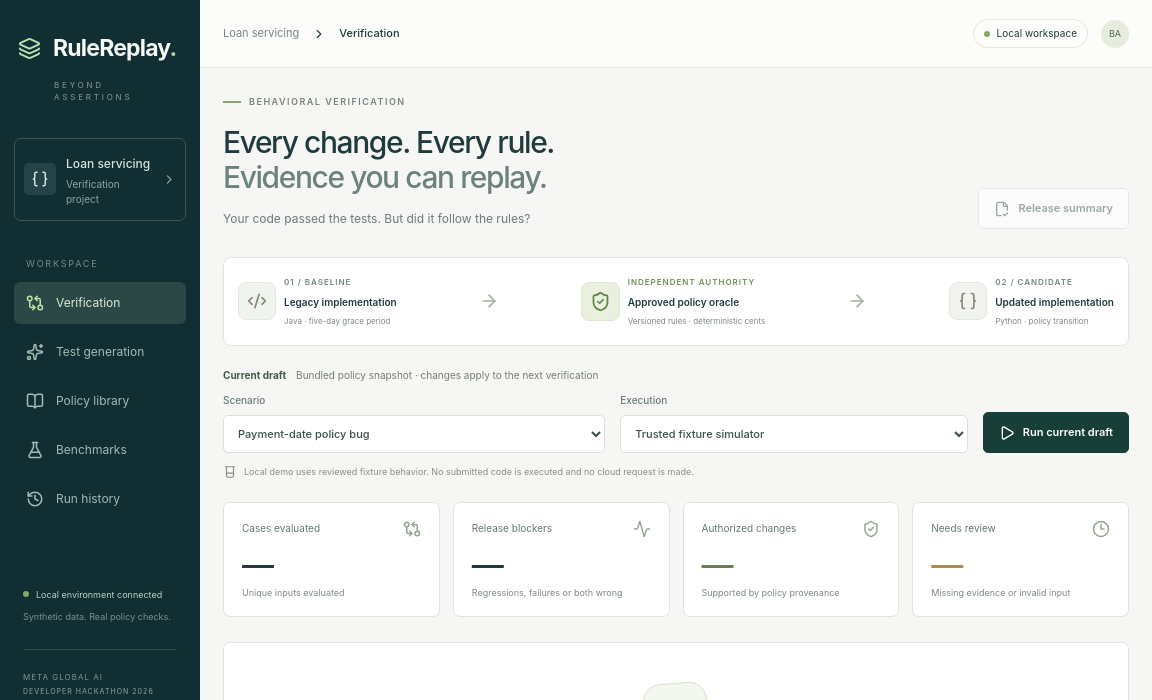
simulator execution cannot display a release PASS even with an inconsistent payload
Expected: the text "Local environment connected" is shown, [23,588,177,601]
Click the button "Run history".
click(100, 499)  # box [14,478,186,520]
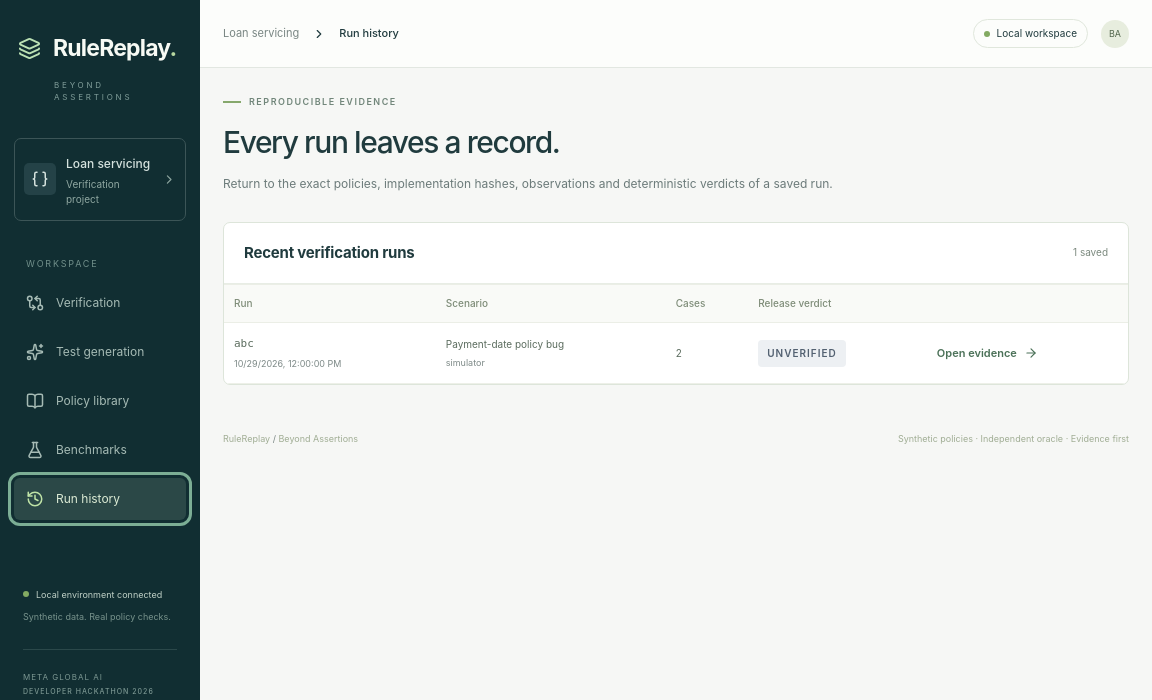
Result: the element named "Historical release verdict" reads "UNVERIFIED" at [767,347,837,359]
Click the button "Open evidence".
click(987, 353)  # box [937,345,1038,361]
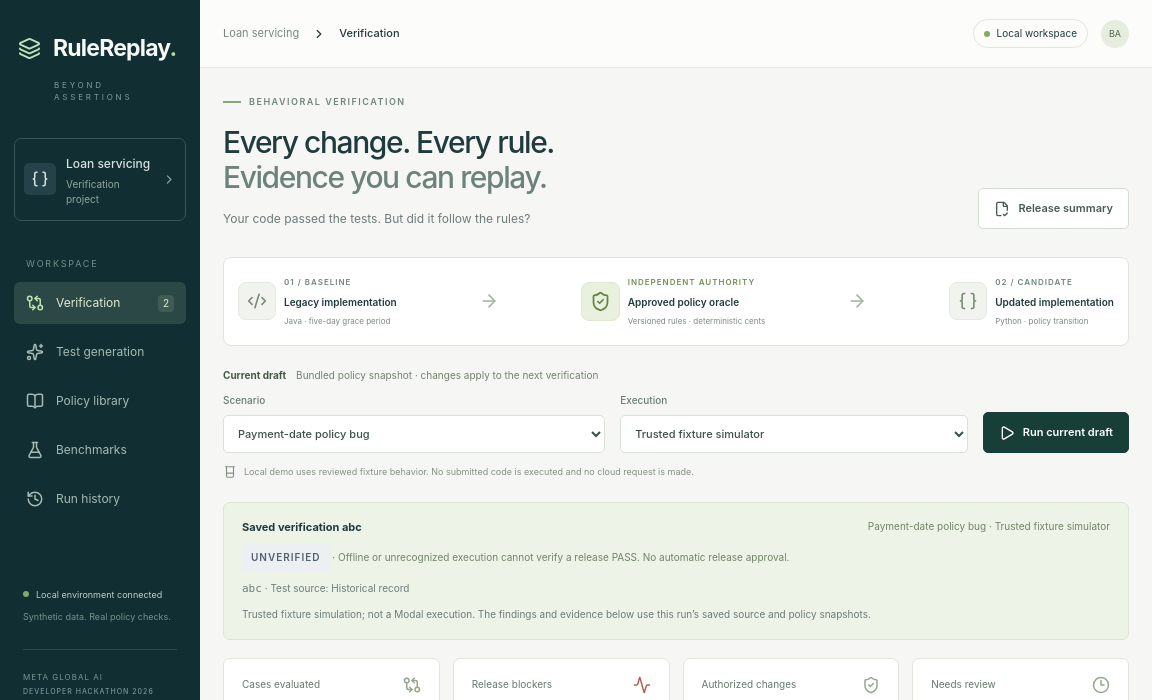
Result: the element named "Verification advisory" shows "UNVERIFIED" at [251,552,320,564]
Click the button "Release summary".
click(1054, 209)  # box [978,188,1129,229]
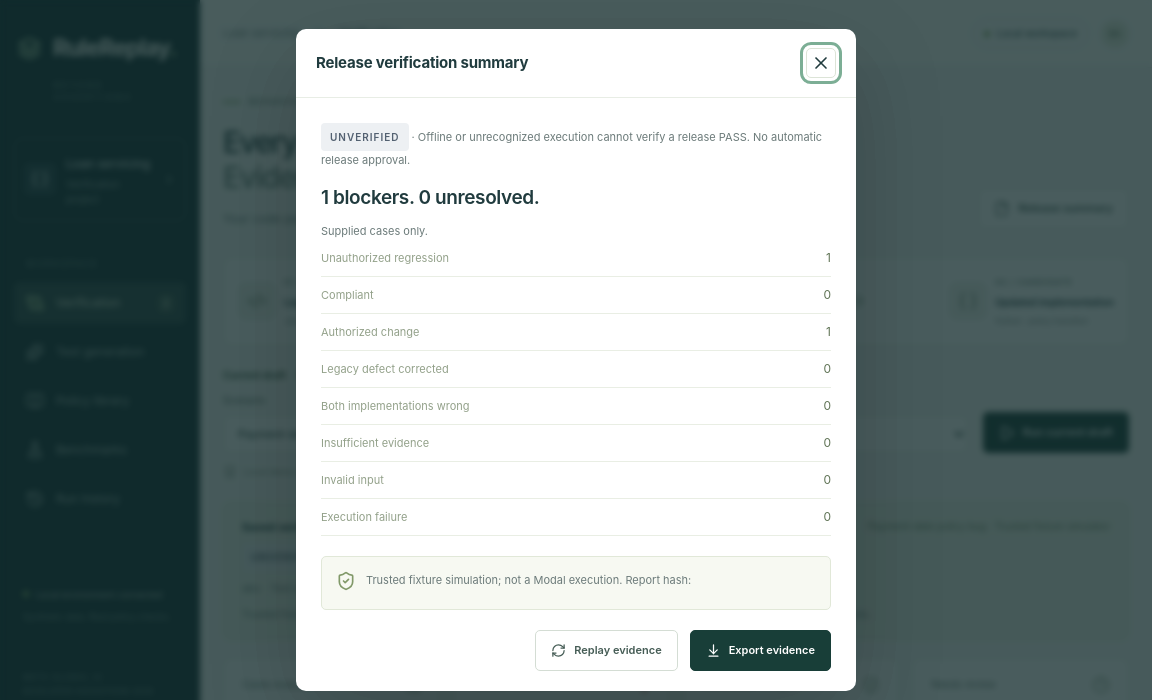
Result: the element named "Release advisory" shows "UNVERIFIED" at [330,131,400,143]
